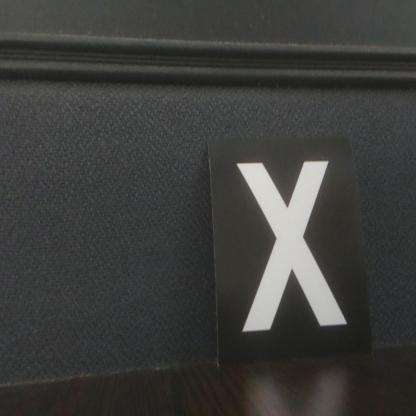x: (210, 137, 372, 355)
